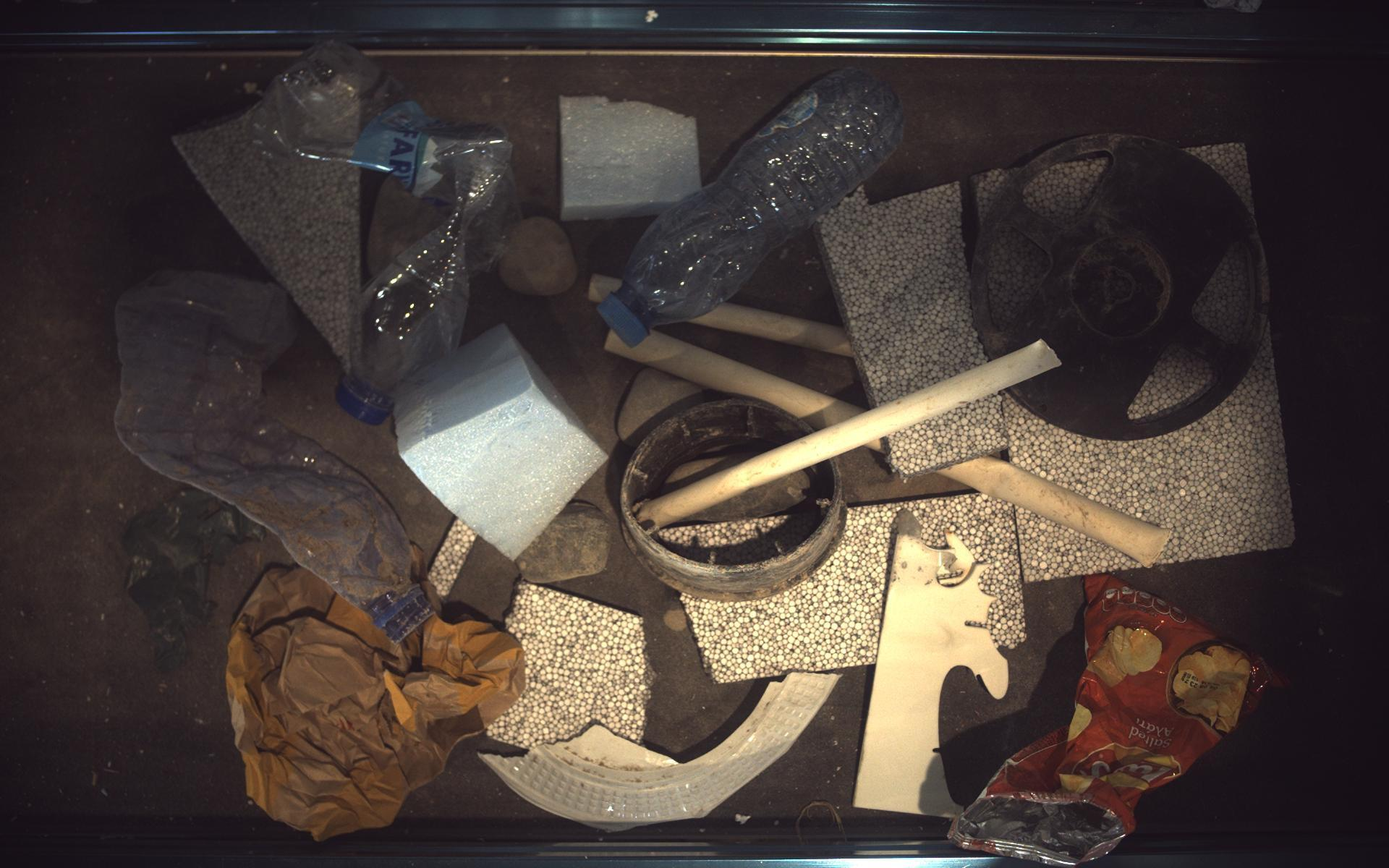foam: (1006, 326, 1297, 564), (682, 493, 1028, 684), (394, 324, 608, 560), (173, 111, 360, 368), (820, 182, 990, 406), (487, 582, 650, 750), (561, 95, 702, 220), (657, 505, 824, 566), (892, 396, 1011, 477), (1020, 510, 1133, 582), (1132, 344, 1218, 417), (1196, 244, 1254, 344), (1027, 156, 1110, 224), (992, 227, 1051, 322), (1194, 142, 1257, 213), (428, 519, 477, 599), (969, 168, 1009, 230)
general_w: (114, 271, 434, 643), (248, 40, 519, 422), (952, 575, 1282, 867), (600, 67, 904, 346), (225, 569, 525, 842), (480, 673, 841, 829), (121, 489, 264, 673), (411, 543, 442, 613)
pipes: (637, 339, 1063, 531), (621, 398, 848, 600), (606, 329, 865, 429), (943, 456, 1174, 567), (690, 302, 856, 357), (588, 273, 622, 304)
plastic: (972, 134, 1270, 441), (856, 511, 1011, 819)
stone: (366, 175, 446, 276), (516, 503, 611, 584), (687, 471, 812, 524), (499, 216, 578, 296), (618, 368, 703, 442), (663, 454, 753, 494)
